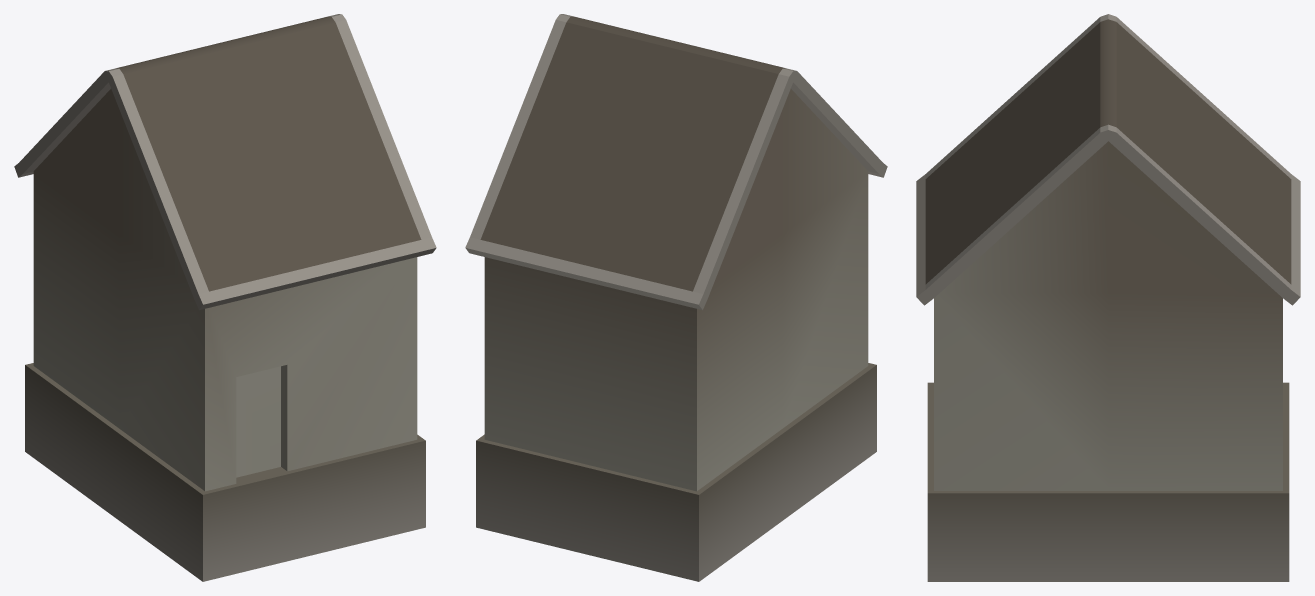
The model's file is Base-RowHouse_B.fbx.
The picture shows the model from 3 angles, left to right: view 1: azimuth 30°, elevation 25°; view 2: azimuth 150°, elevation 25°; view 3: azimuth 270°, elevation 25°; orthographic projection.
Parts seen in each view (by area): view 1: Base-RowHouse_B; view 2: Base-RowHouse_B; view 3: Base-RowHouse_B.
Boxes of the visible parts, bbox=[...] form: Base-RowHouse_B: bbox=[14, 14, 436, 581]; Base-RowHouse_B: bbox=[465, 14, 887, 581]; Base-RowHouse_B: bbox=[916, 14, 1300, 581].
Bounding box in the file's own units: 550 × 1006 × 771.
